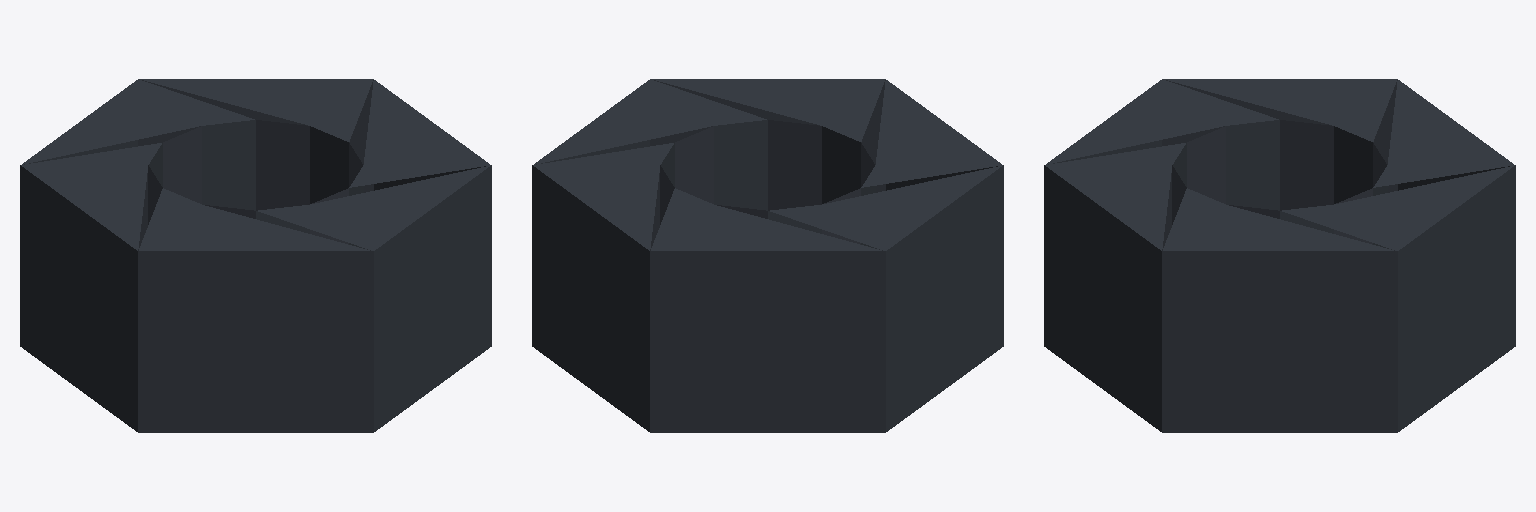
robot.urdf — hex_nut:
<?xml version="1.0"?>
<robot name="hex_nut">
  <!-- M33 nut. Origin is at the nut centre; STL dimensions are in metres. -->
  <link name="nut">
    <inertial><origin xyz="0 0 0"/><mass value="0.012"/><inertia ixx="1e-6" ixy="0" ixz="0" iyy="1e-6" iyz="0" izz="1e-6"/></inertial>
    <visual><geometry><mesh filename="nut_m33.stl"/></geometry><material name="cast_steel"><color rgba="0.25 0.27 0.30 1"/></material></visual>
    <collision><geometry><mesh filename="nut_m33.stl"/></geometry></collision>
  </link>
</robot>

--- Render facts (derived) ---
The picture shows the robot from 3 angles, left to right: view 1: azimuth 30°, elevation 25°; view 2: azimuth 150°, elevation 25°; view 3: azimuth 270°, elevation 25°; orthographic projection.
Model hex_nut with 1 links and 0 joints (none), rooted at nut, posed every joint at zero.
Links seen in each view (by area): view 1: nut; view 2: nut; view 3: nut.
Boxes of the visible links, x1=… form: nut: x1=20, y1=79, x2=491, y2=432; nut: x1=532, y1=79, x2=1003, y2=432; nut: x1=1044, y1=79, x2=1515, y2=432.
Bounding box of the posed robot: 0.055 × 0.0635 × 0.027 m (x, y, z).
Meshes: 1 distinct files referenced, 1 mesh visuals loaded (1 ASCII STL).
